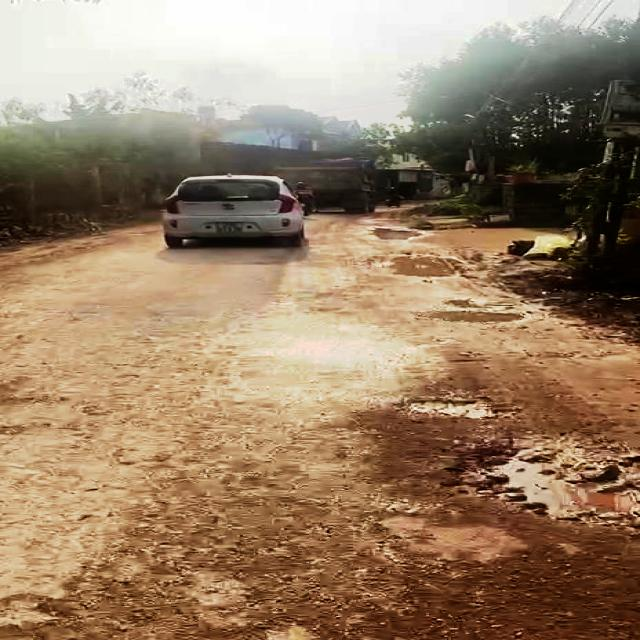pothole: (445, 435, 640, 529), (400, 392, 503, 419), (367, 252, 465, 278), (415, 308, 524, 326), (366, 225, 422, 241)
